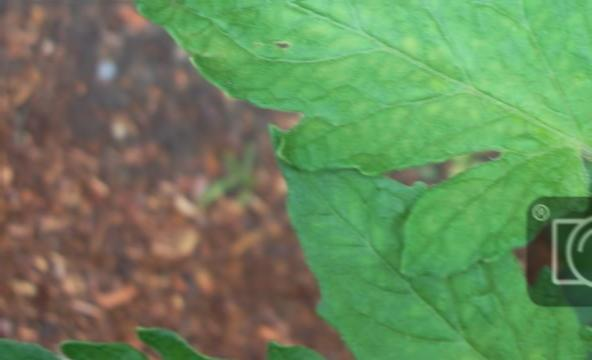Tomato mold leaf: (0, 0, 592, 265)
